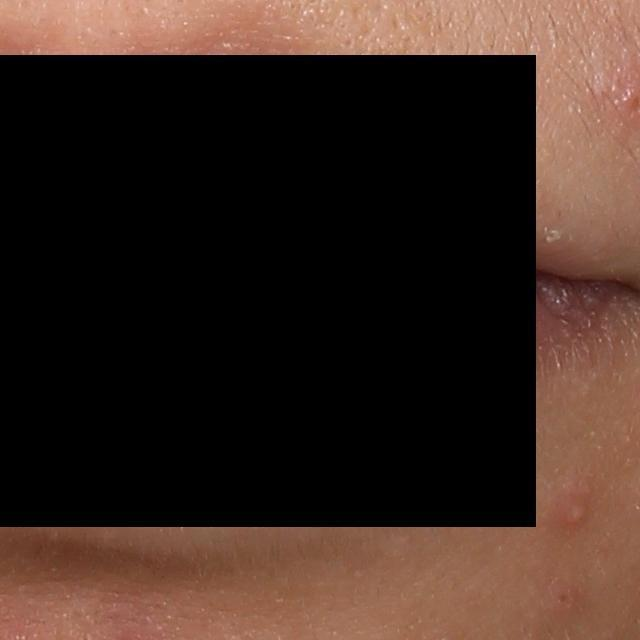papule: (543, 577, 587, 622)
